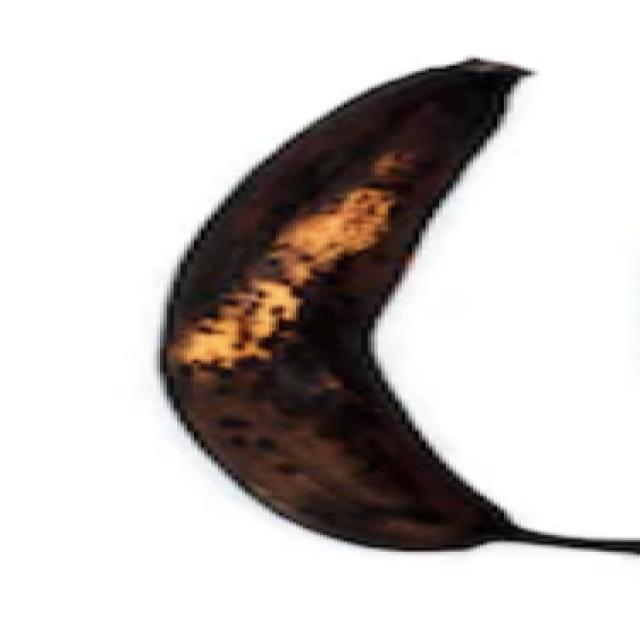rotten-banana: (158, 58, 529, 553)
